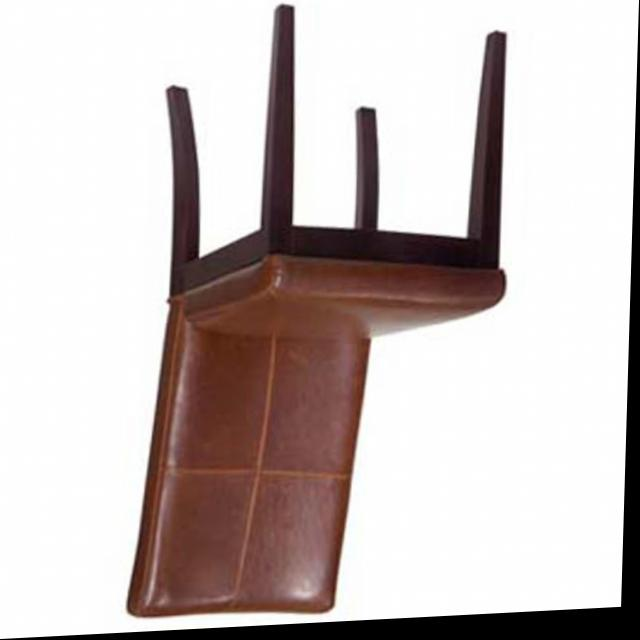Chair: (132, 0, 517, 628)
